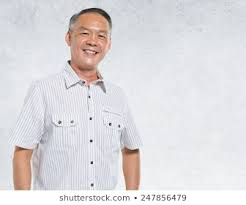asian_male: (65, 6, 115, 69)
